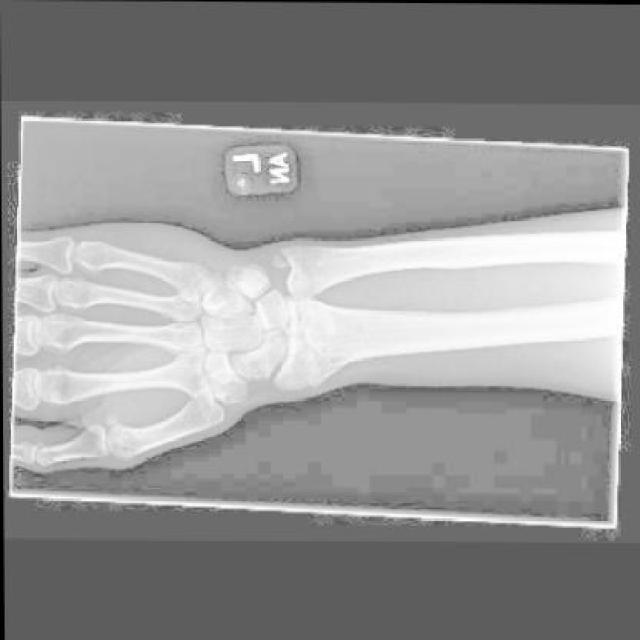Fracture: (294, 297, 342, 381), (271, 240, 291, 270)
